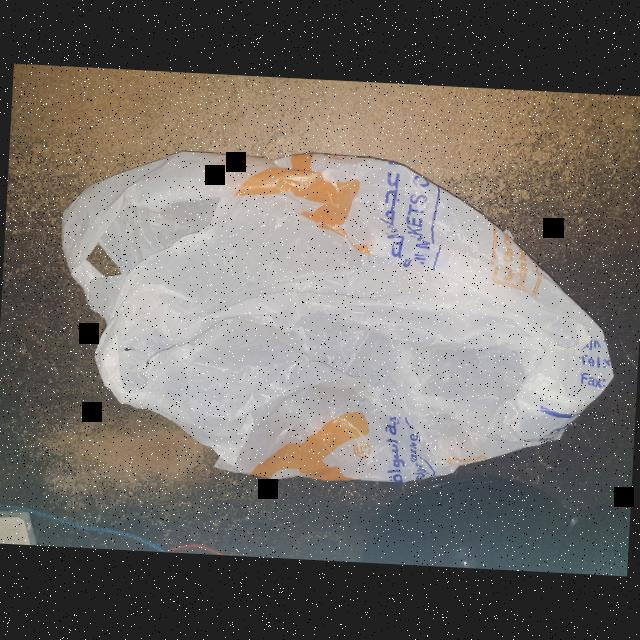plastic_bag: (37, 124, 637, 516)
